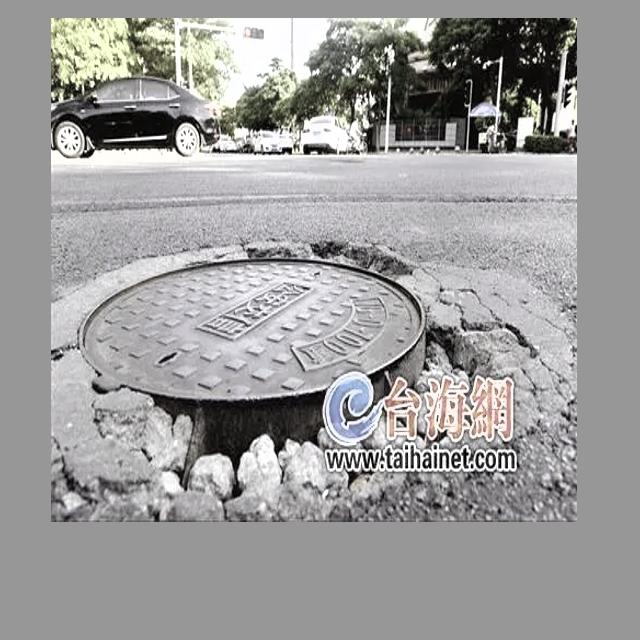circle: (59, 238, 548, 493)
